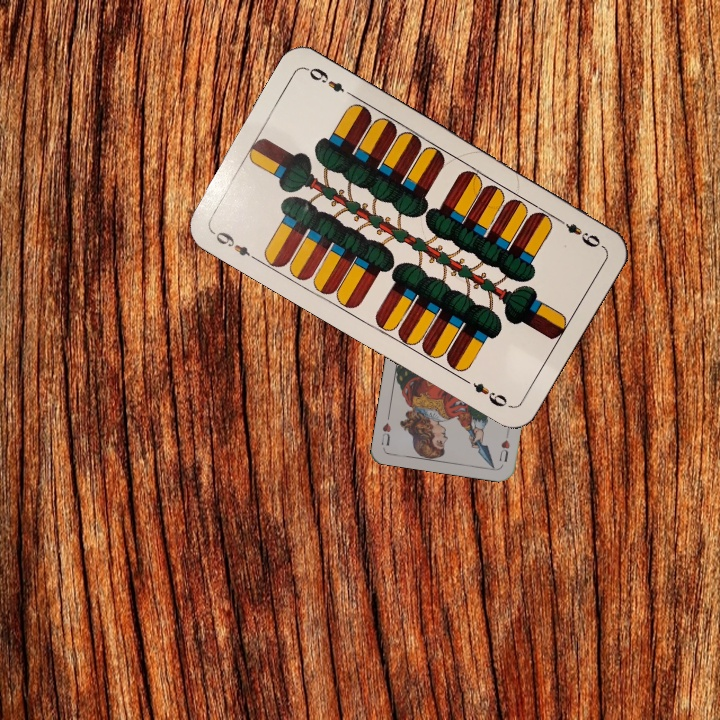E9: (552, 213, 606, 251), (207, 226, 260, 264)
HU: (495, 426, 513, 465)
